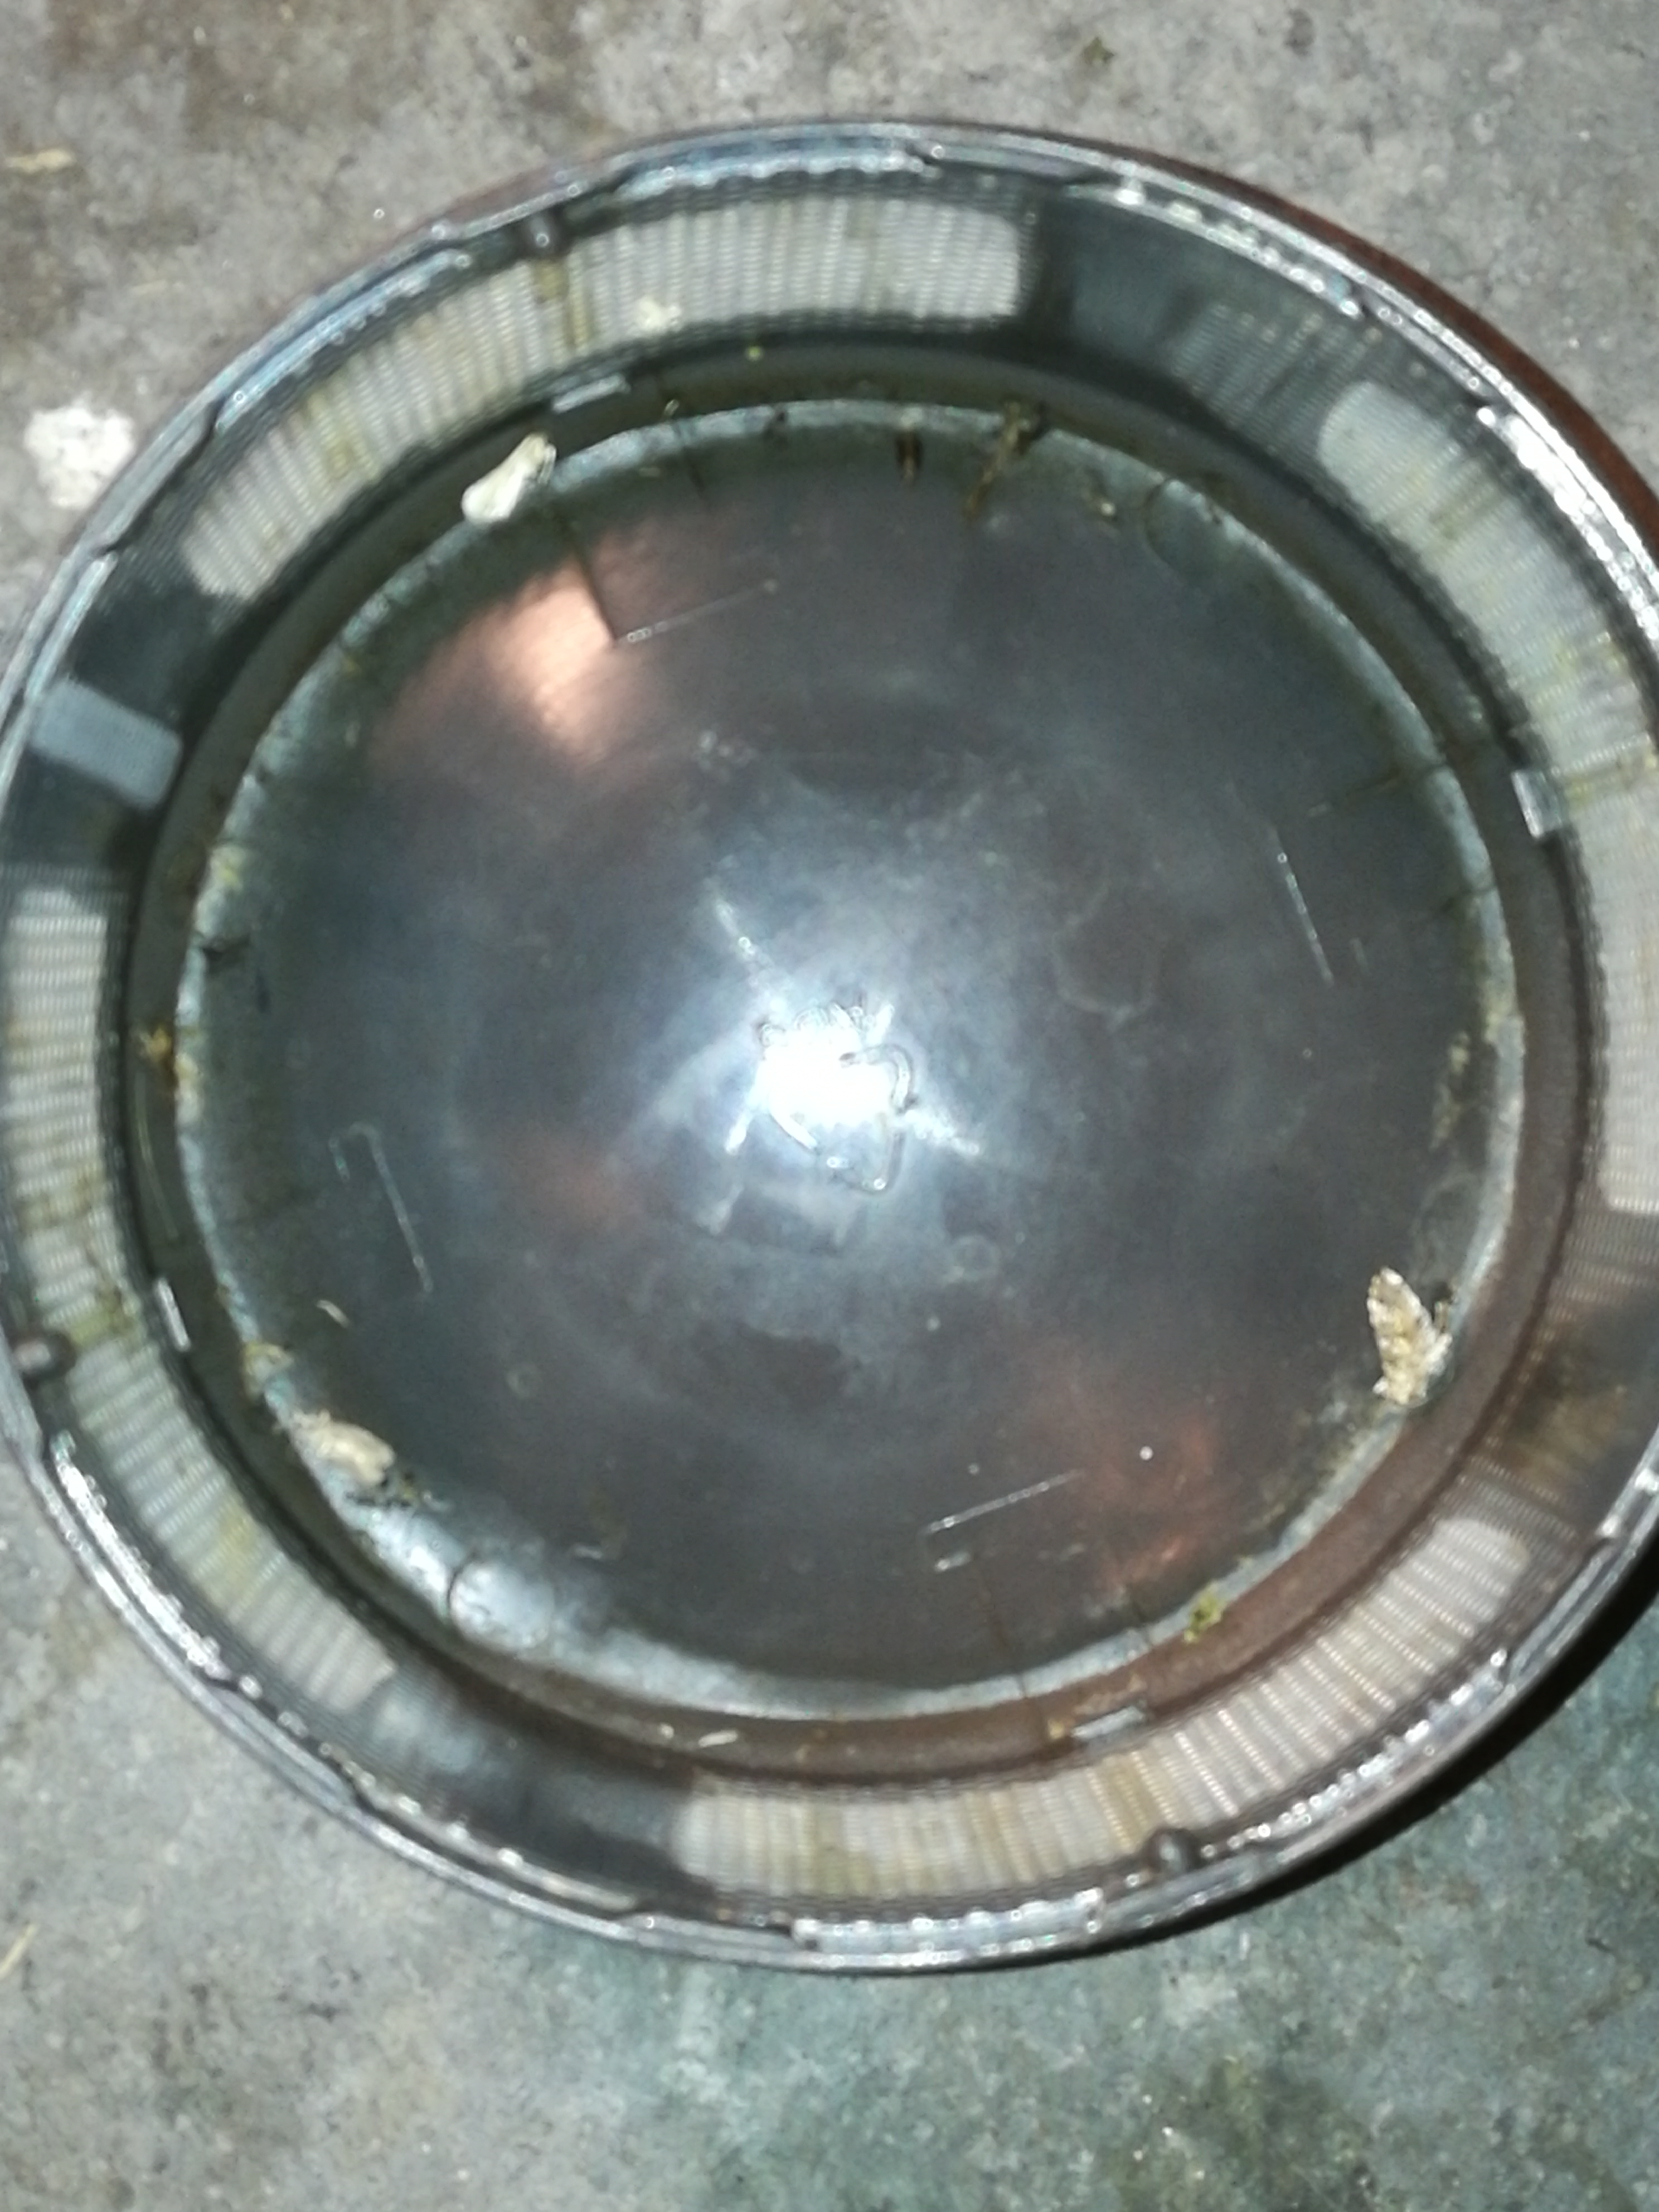mosquito: (373, 1508, 439, 1590)
moth: (1368, 1268, 1452, 1402), (289, 1407, 394, 1486), (462, 432, 552, 519)
